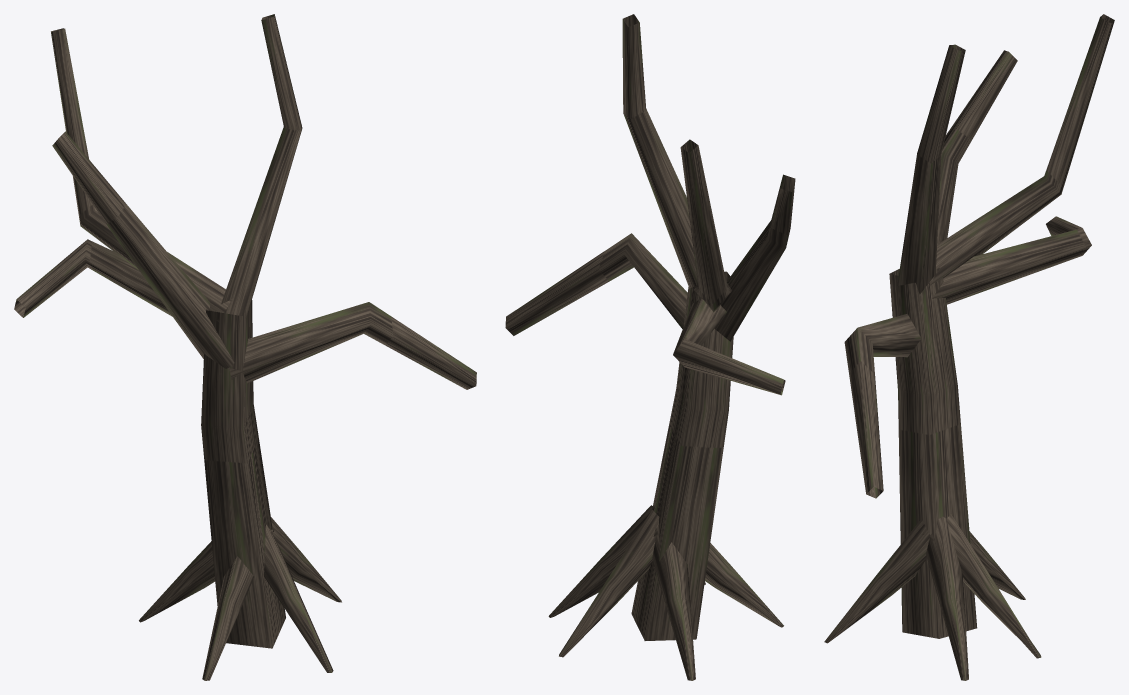
File: DeadTree_2_LOD2.gltf
3 views of the same model, side by side, from view 1: azimuth 30°, elevation 25°; view 2: azimuth 150°, elevation 25°; view 3: azimuth 270°, elevation 25° (orthographic). The views are drawn at different scales.
Visible parts, largest first — view 1: DeadTree_2_LOD2; view 2: DeadTree_2_LOD2; view 3: DeadTree_2_LOD2.
Boxes of the visible parts, x1,y1,x2,y2 form: DeadTree_2_LOD2: [14, 14, 476, 680]; DeadTree_2_LOD2: [505, 14, 795, 680]; DeadTree_2_LOD2: [824, 14, 1114, 680].
Size of the model in its own units: 7 by 11.07 by 4.87.
Materials: 1 (1 with a texture image).
